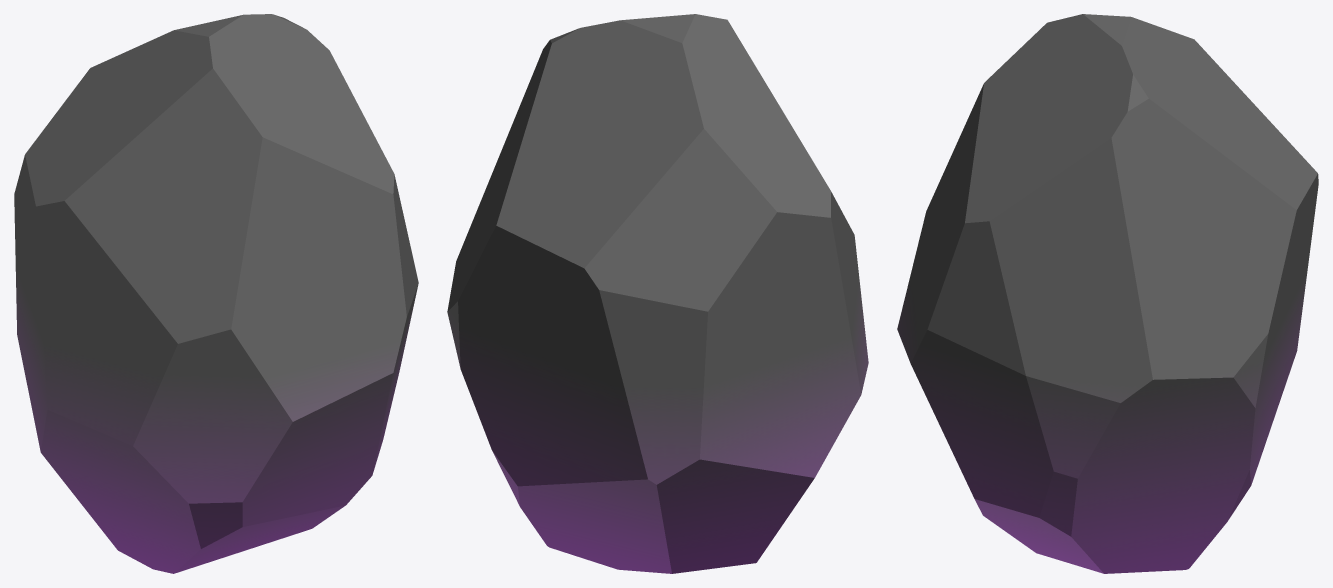
File: rock1.fbx
3 renders of one model, left to right at view 1: azimuth 30°, elevation 25°; view 2: azimuth 150°, elevation 25°; view 3: azimuth 270°, elevation 25°, orthographic. The views are drawn at different scales.
Parts seen in each view (by area): view 1: Sphere.006; view 2: Sphere.006; view 3: Sphere.006.
Boxes of the visible parts, x1,y1,x2,y2 form: Sphere.006: [14, 14, 418, 573]; Sphere.006: [447, 14, 868, 573]; Sphere.006: [897, 14, 1318, 573].
Size of the model in its own units: 113 by 155 by 113.
